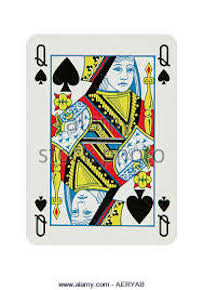QueenOfSpades: (20, 27, 181, 252)
